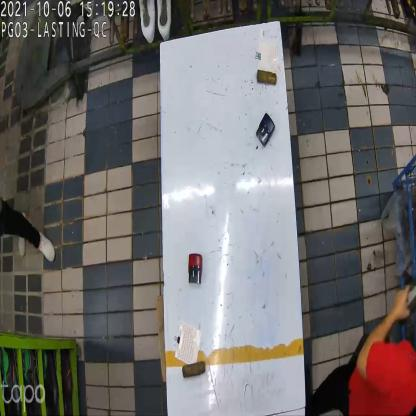stamp: (256, 112, 275, 148), (184, 252, 204, 286)
